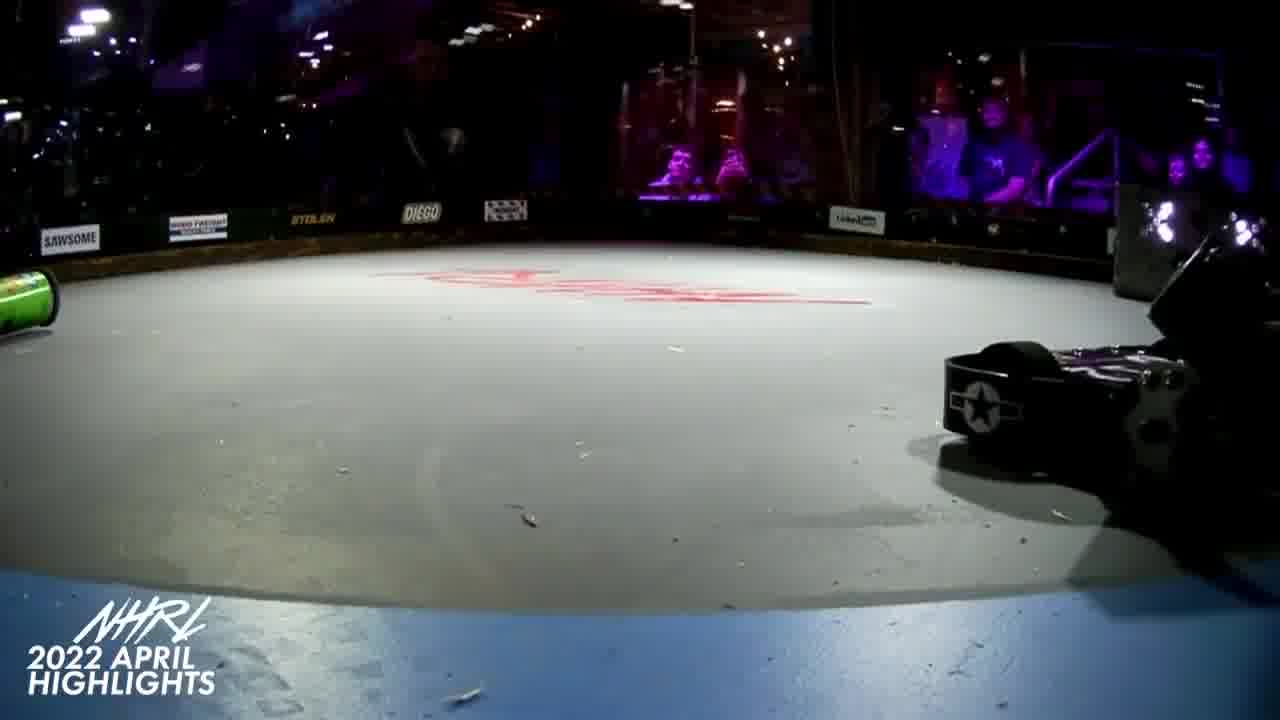combatbot: (941, 336, 1248, 500), (1, 268, 61, 344)
housebot: (1111, 185, 1280, 304)
